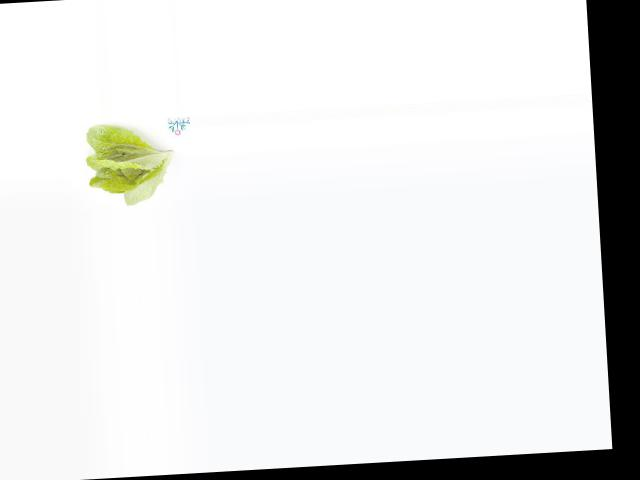lettuce: (81, 122, 176, 209)
